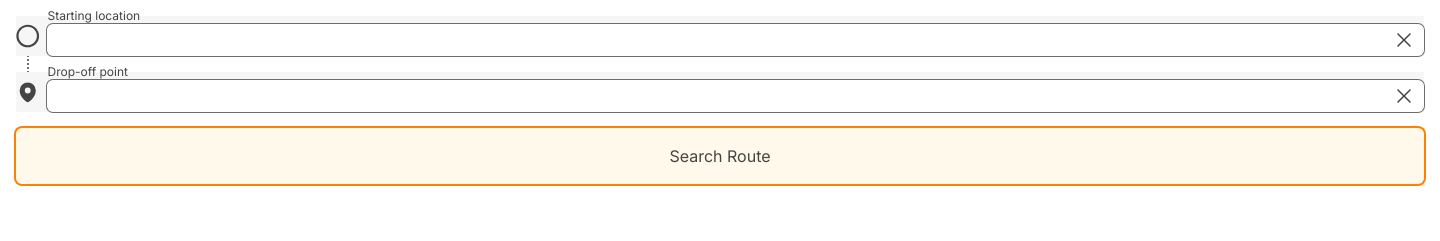
Test case: RouteCheckSide failed to get route detail
Step 1. Type "Hong" into the dropdown labelled "Starting location" → (736, 40), box [48,24,1424,56]
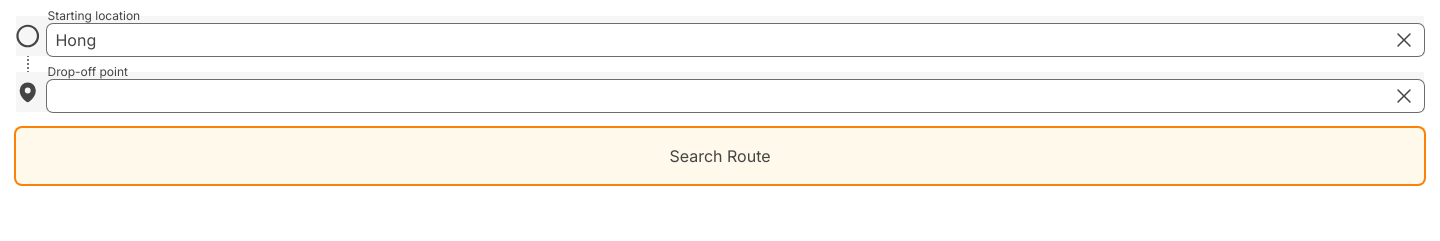
Step 2. Type "Kong" into the dropdown labelled "Drop-off point" → (736, 96), box [48,80,1424,112]
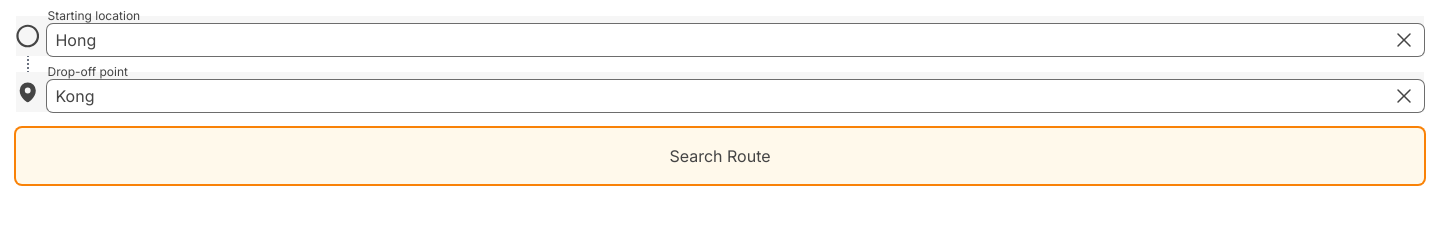
Step 3. Click the button "Search Route" → (720, 156), box [16,128,1424,184]
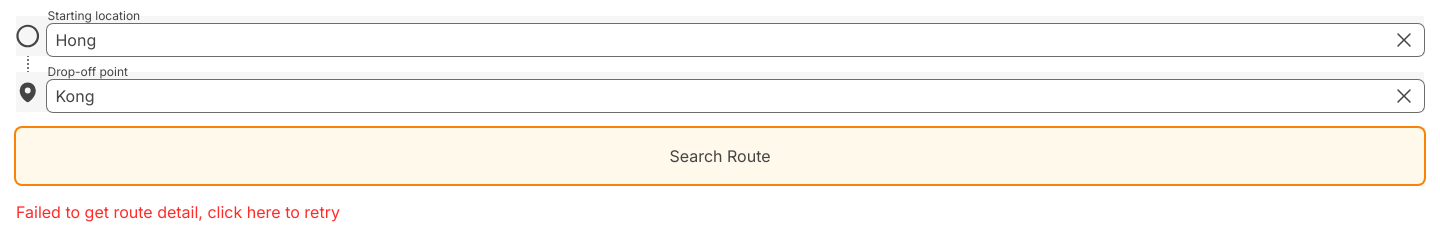
Check: the message "Failed to get route detail, click here to retry" is shown, box [16,200,340,224]
Check: the message shows "Failed to get route detail", box [16,202,208,222]
